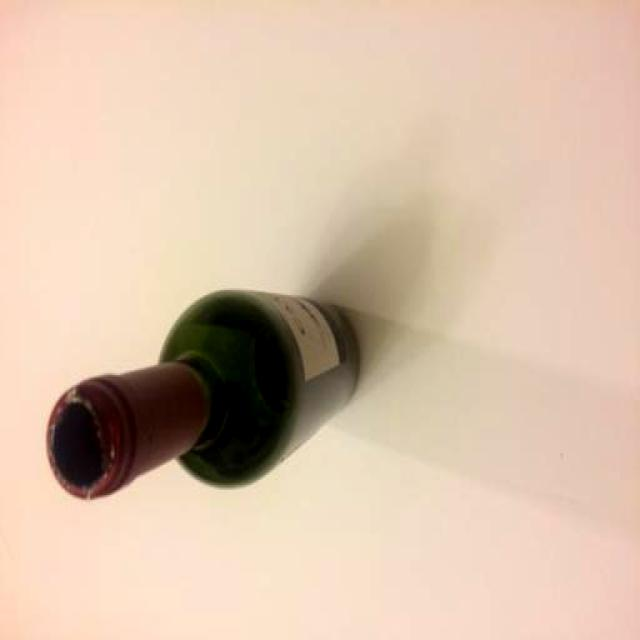Glass: (41, 286, 364, 510)
